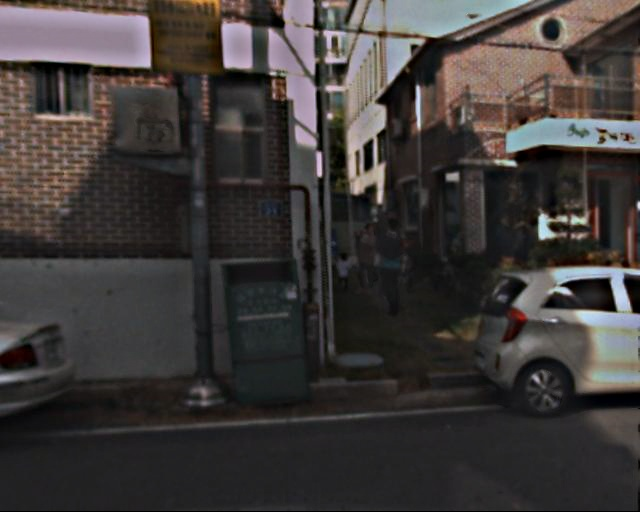person: (371, 218, 412, 318), (352, 226, 382, 299), (332, 253, 351, 294)
